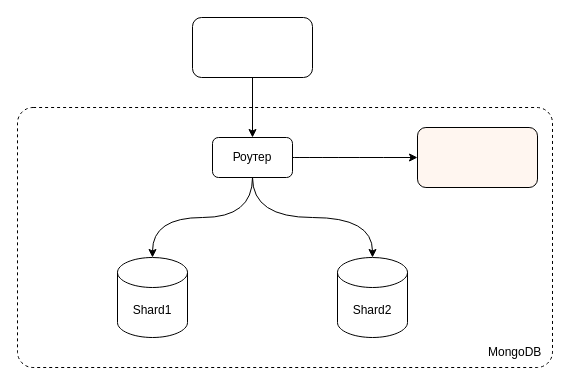
The diagram is 580 pixels wide and 385 high, and some of its shapes have lost their labels. The box of each missing label's shape, as (x1, y1, x2, y2) in pixels:
configSrv: (416, 126, 538, 188)
pymongo-api: (192, 16, 312, 78)
